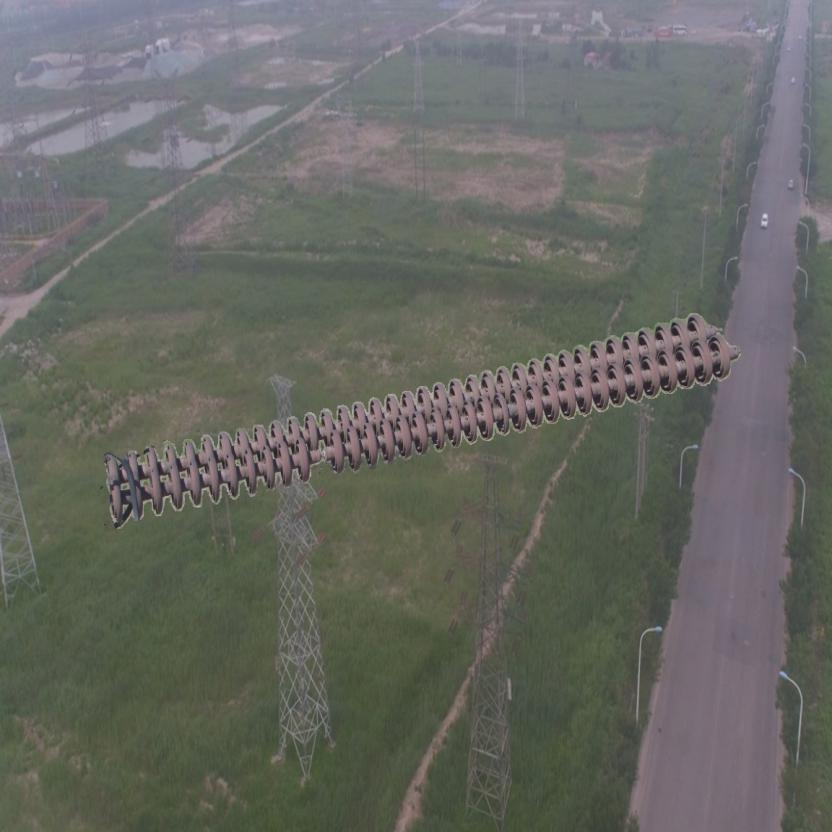defect: (292, 426, 346, 482)
